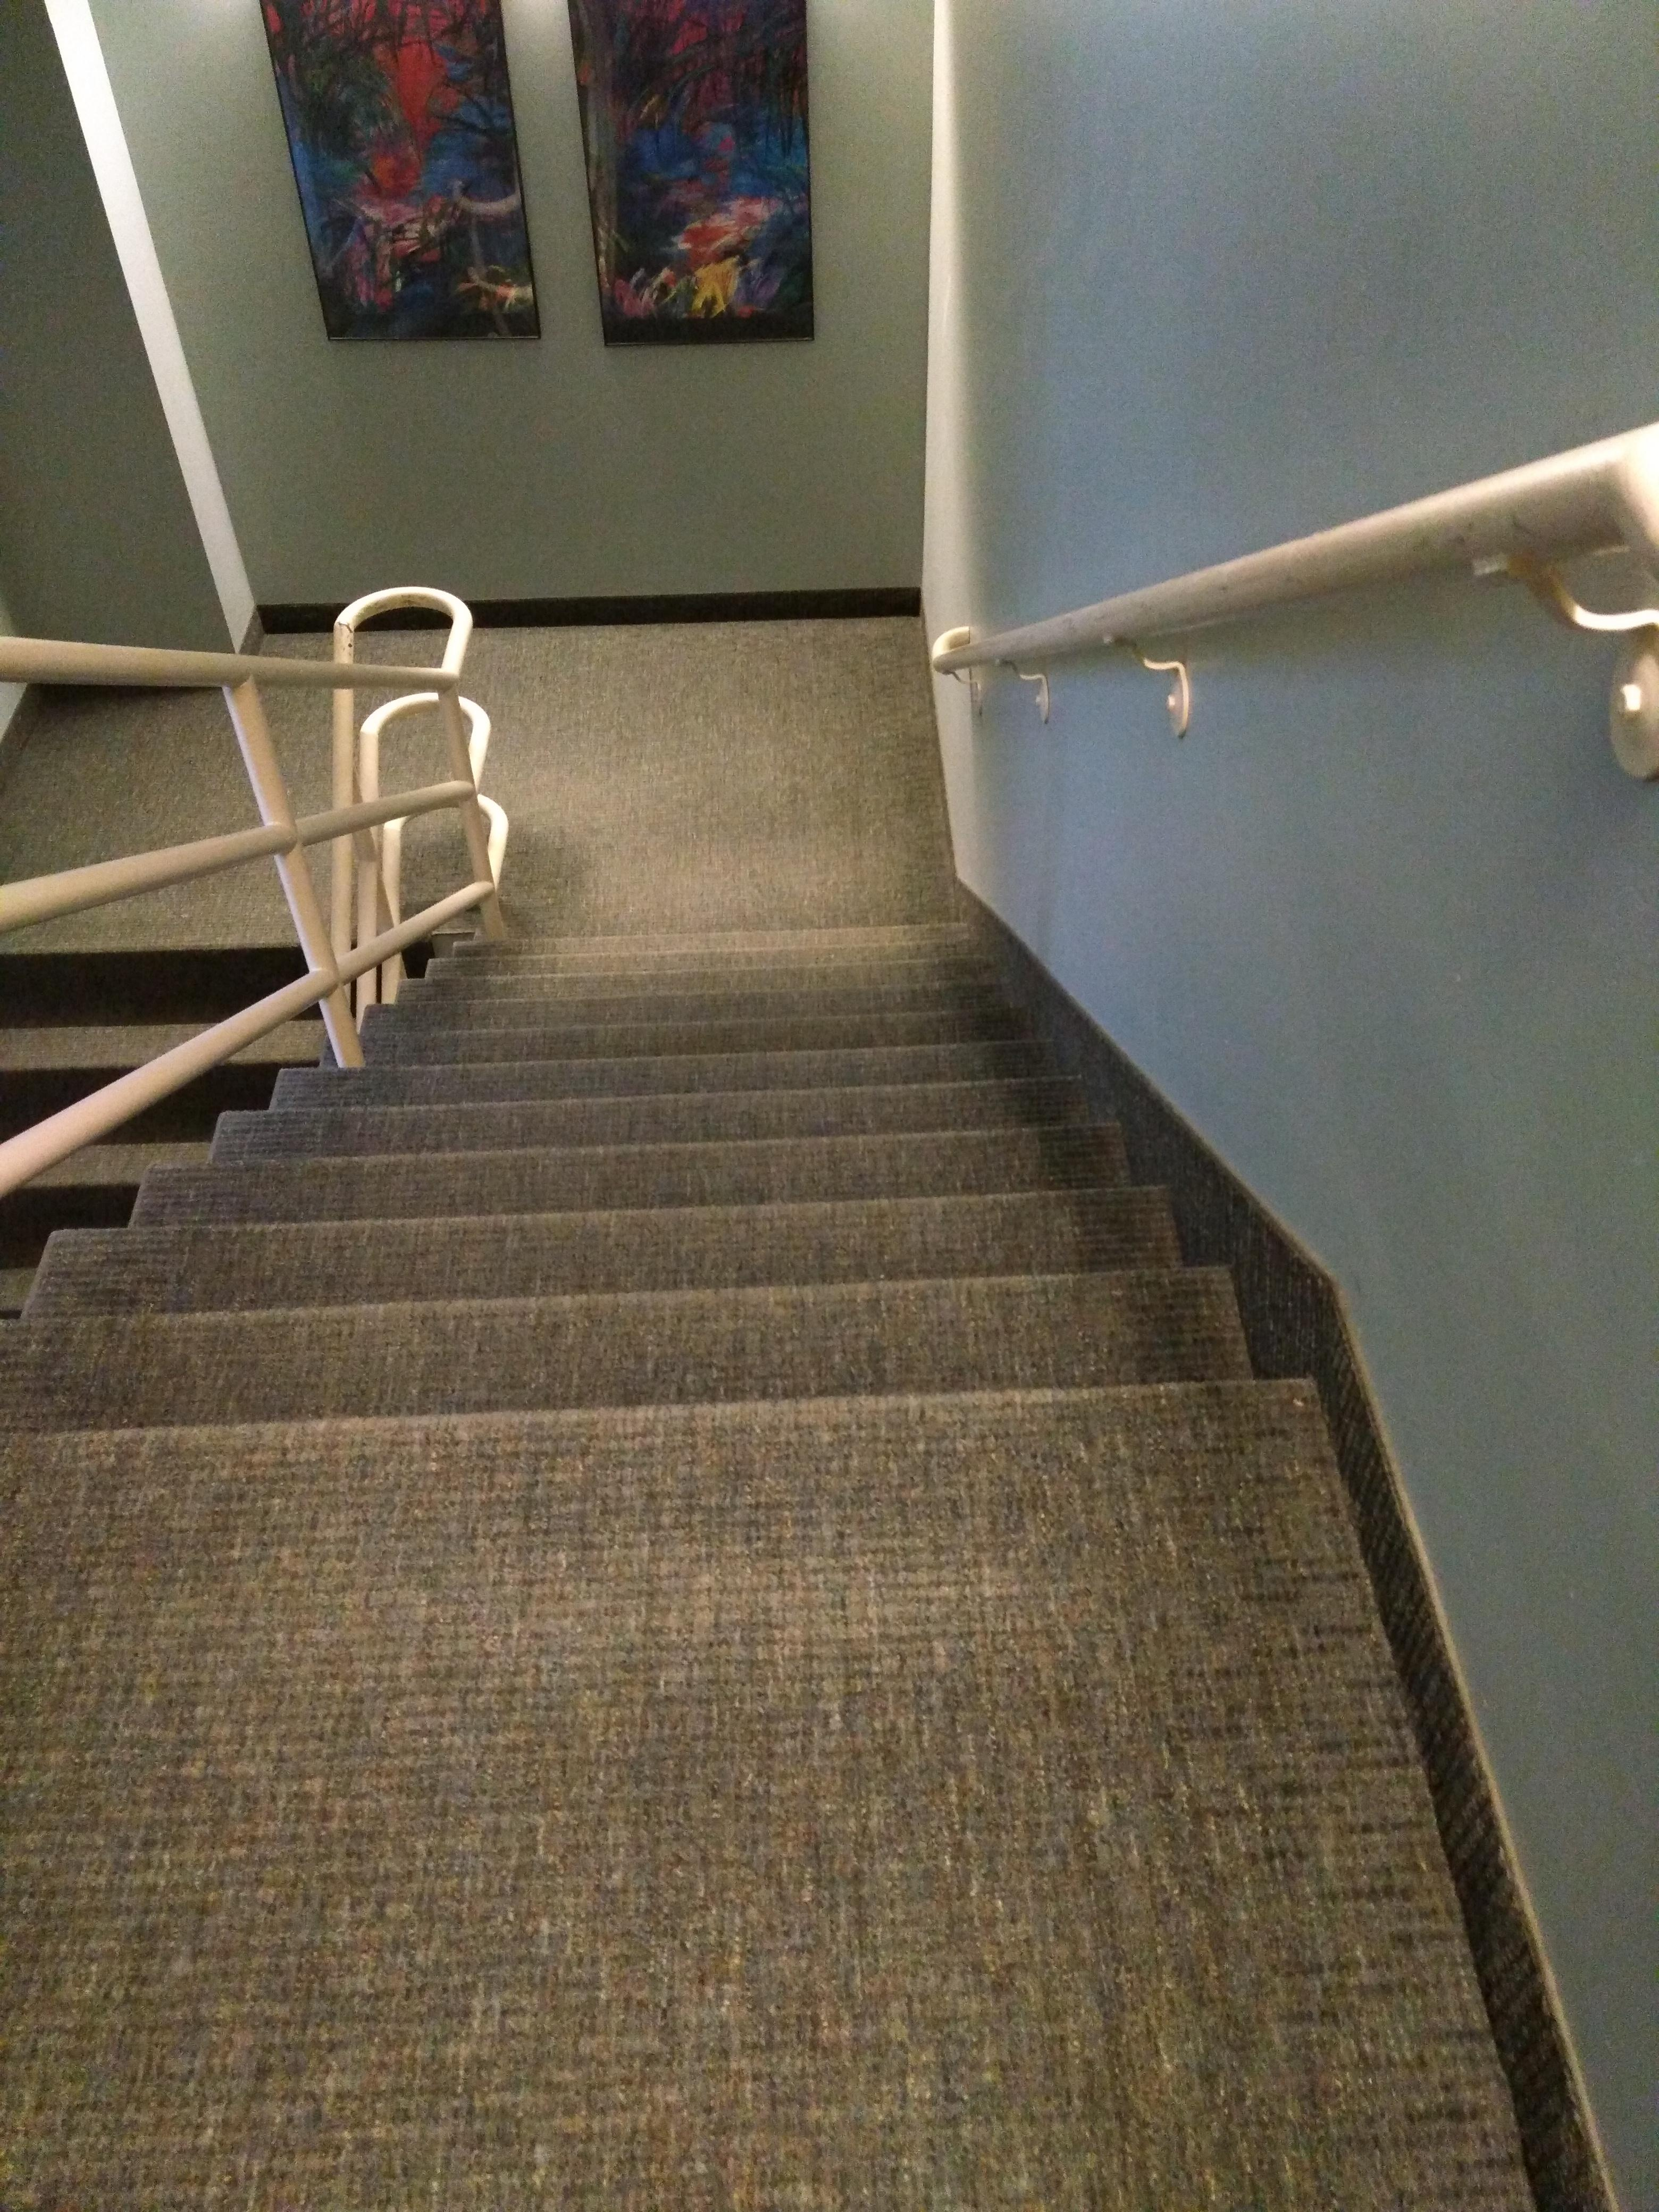stairs_down: (218, 880, 1192, 1510)
